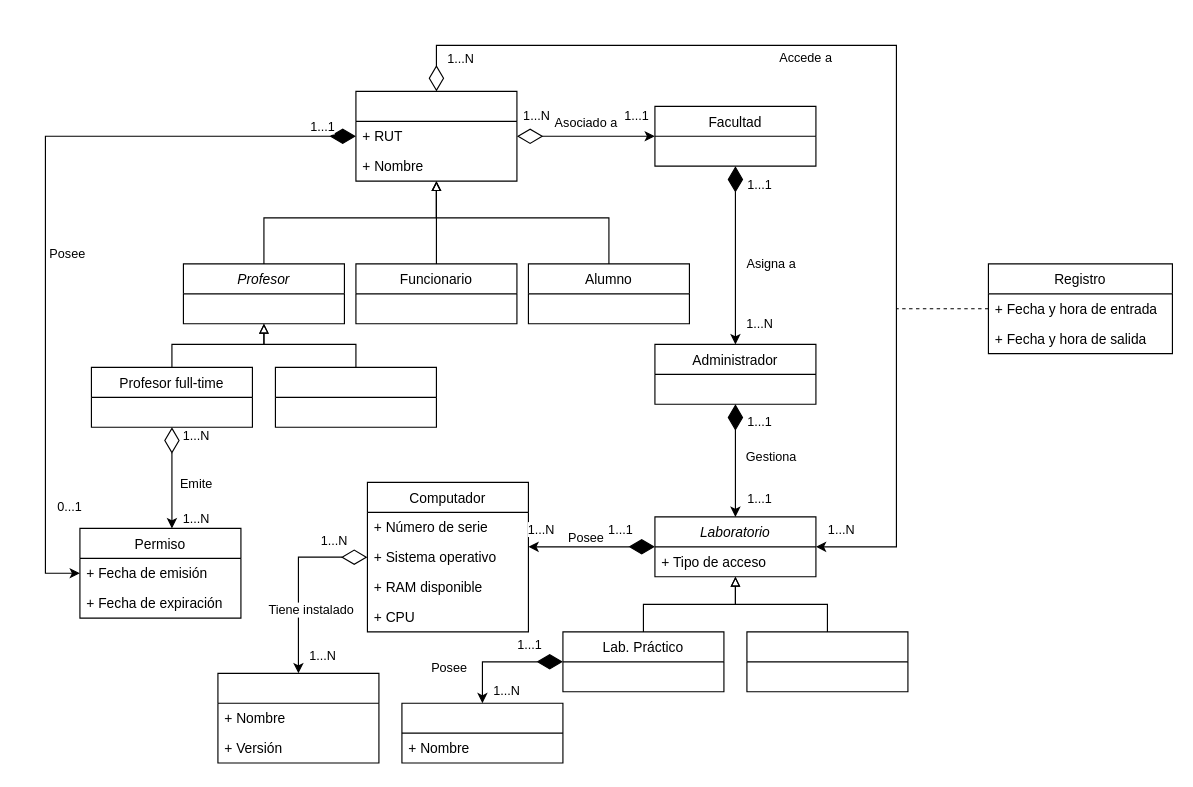
This 1193x787 diagram has some shape labels left out. The shapes that lost their labels are listed below. From the top down, each one's box as (x1, y1, x2, y2) in pixels, then its label:
(355, 90, 517, 181): Persona
(274, 366, 436, 427): Profesor part-time
(746, 631, 908, 692): Lab. Computación
(217, 672, 379, 763): Programa
(401, 702, 563, 763): Material práctico
